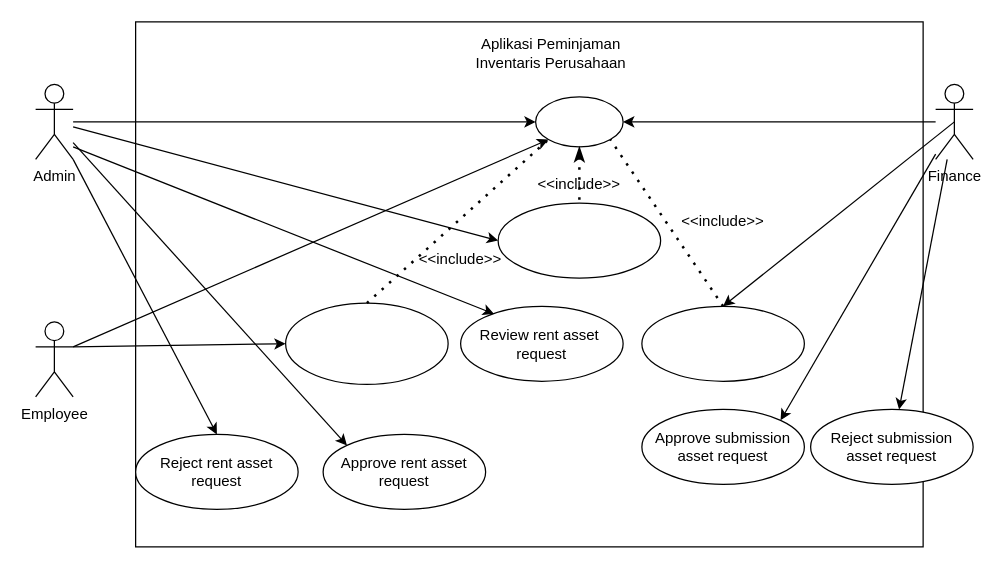
Image size: 1003x569. Some labels were removed from this diagram. Here are the shapes that lost their labels. From the top down, the centre of each, then its label:
At pixel 578 121: "Login".
At pixel 579 240: "Insert submission asset".
At pixel 366 343: "input rent request".
At pixel 722 343: "review submission asset request".
